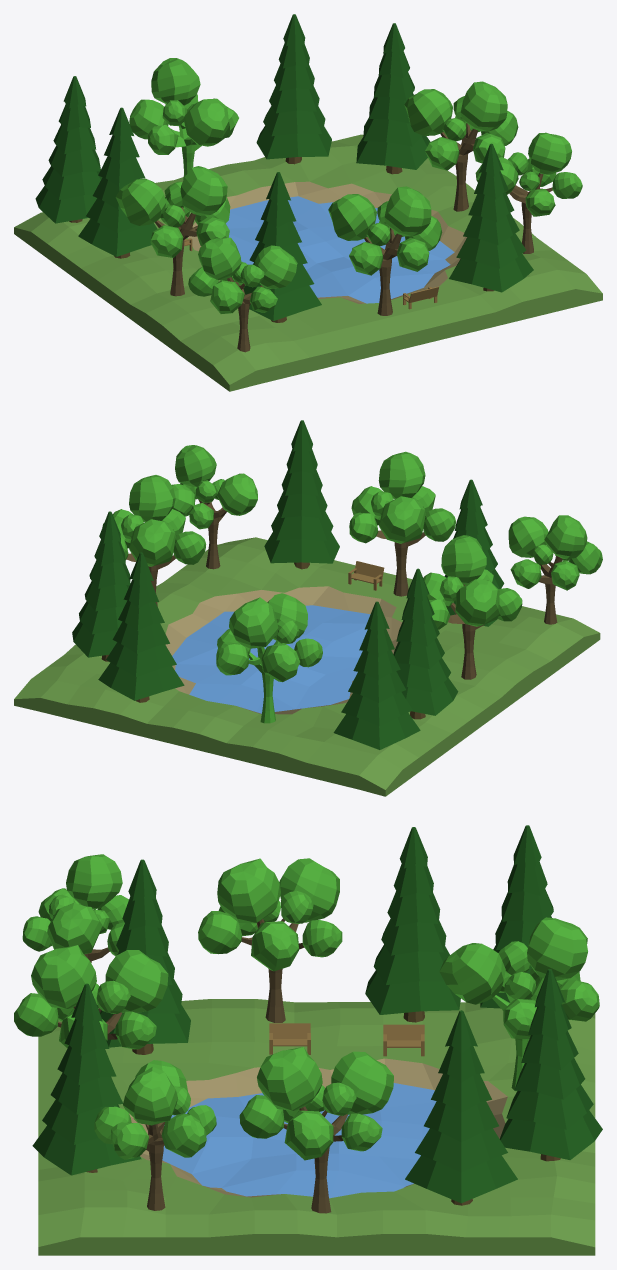
File: Park_4.fbx
The picture shows the model from 3 angles, top to bottom: view 1: azimuth 30°, elevation 25°; view 2: azimuth 150°, elevation 25°; view 3: azimuth 270°, elevation 25°; orthographic projection. The views are drawn at different scales.
Parts seen in each view (by area): view 1: Plane; view 2: Plane; view 3: Plane.
Boxes of the visible parts, x1,y1,x2,y2 form: Plane: [14, 14, 602, 391]; Plane: [14, 420, 602, 796]; Plane: [14, 825, 602, 1255].
Bounding box in the file's own units: 1396 × 560 × 1377.
